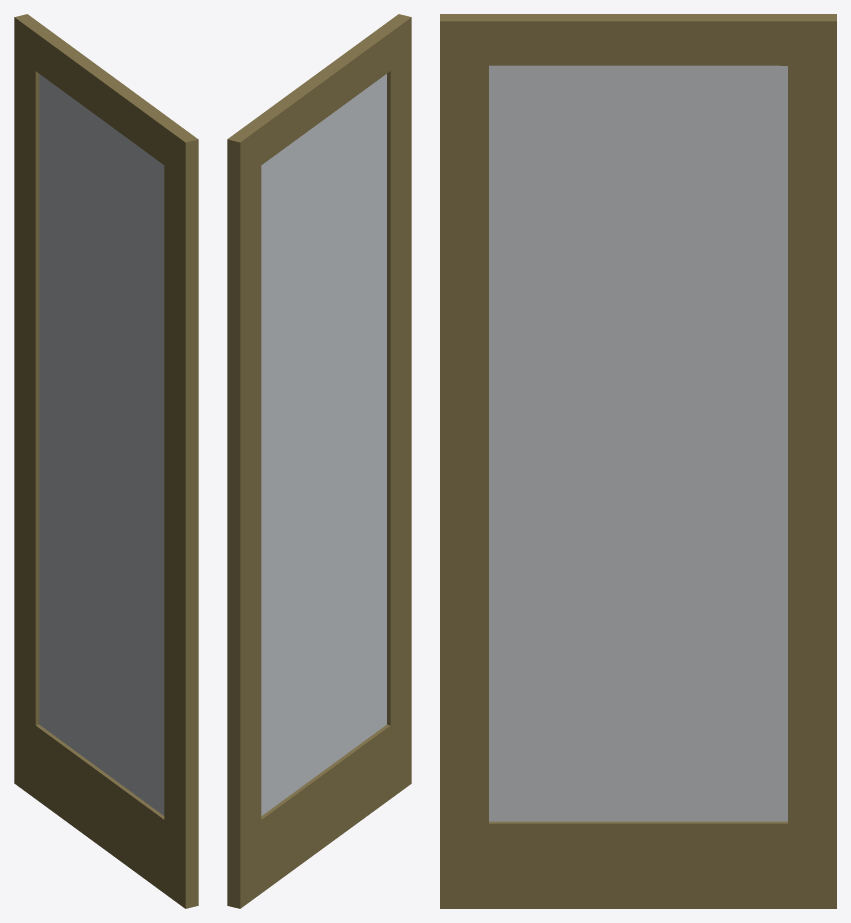
The model's file is MainDoor1aTransformed2.fbx.
3 views of the same model, side by side, from view 1: azimuth 30°, elevation 25°; view 2: azimuth 150°, elevation 25°; view 3: azimuth 270°, elevation 25° (orthographic). The views are drawn at different scales.
Parts seen in each view (by area): view 1: Glazed_Internal Double Timber Doors:DT-22:11811637 frame; view 2: Glazed_Internal Double Timber Doors:DT-22:11811637 frame; view 3: Glazed_Internal Double Timber Doors:DT-22:11811637 frame.
Part boxes in pixels (x1,y1,x2,y2): Glazed_Internal Double Timber Doors:DT-22:11811637 frame: [14, 14, 198, 908]; Glazed_Internal Double Timber Doors:DT-22:11811637 frame: [227, 14, 411, 908]; Glazed_Internal Double Timber Doors:DT-22:11811637 frame: [440, 14, 836, 908].
Bounding box in the file's own units: 0.0451 × 2.5 × 1.01.
